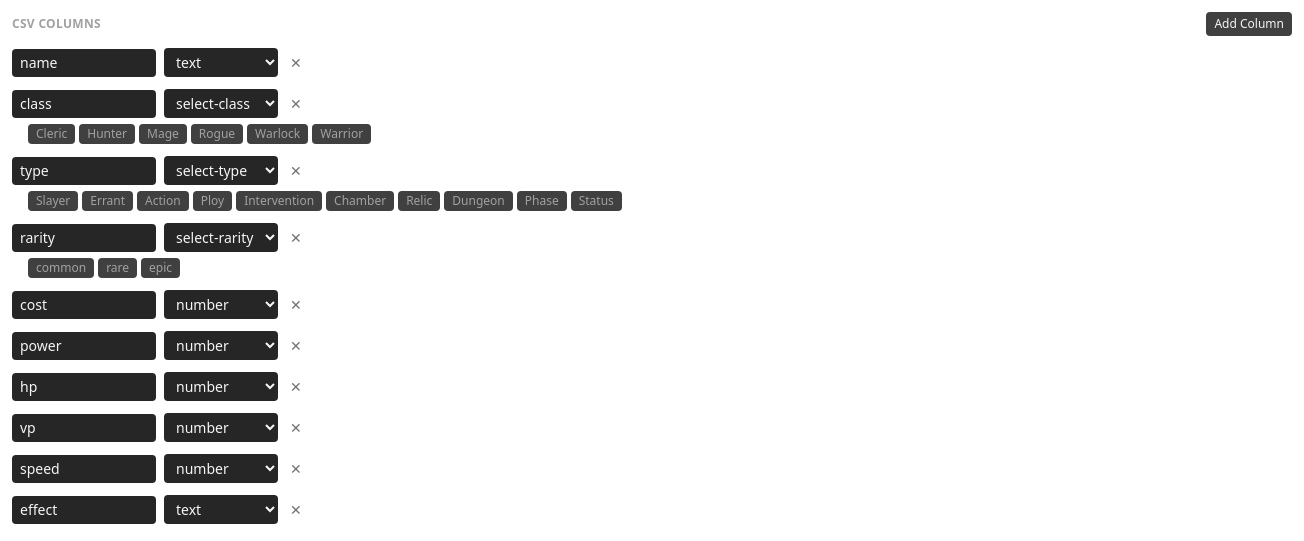
CsvColumnEditor › blurring with empty input reverts to previous name
Clear the field showing "name". click: [84, 62]
box: [12, 48, 156, 76]
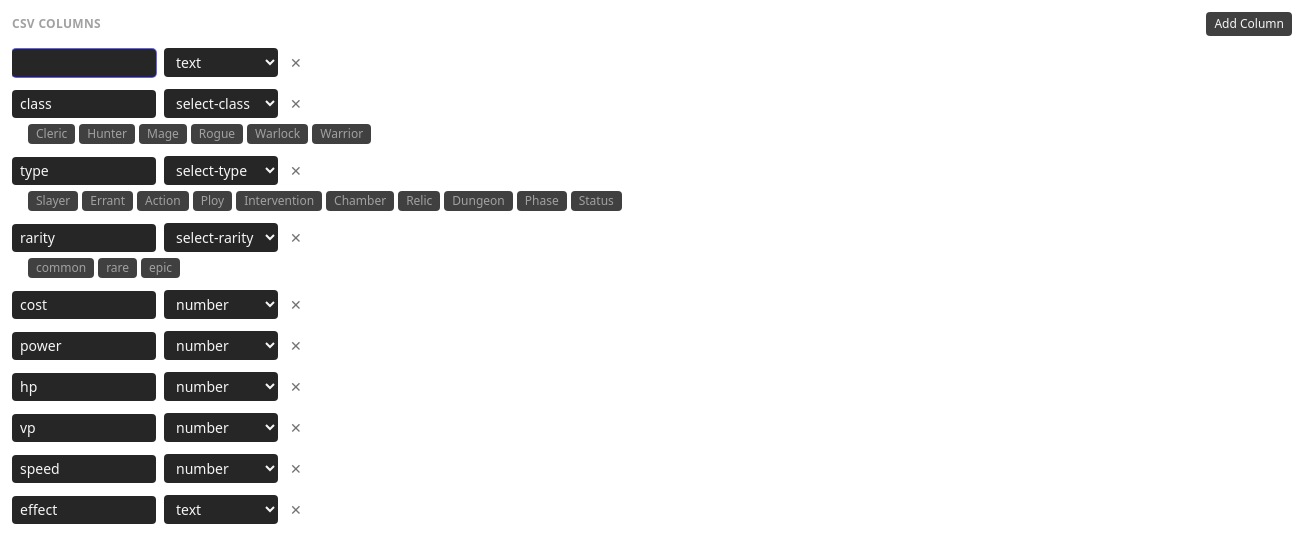
Press Tab
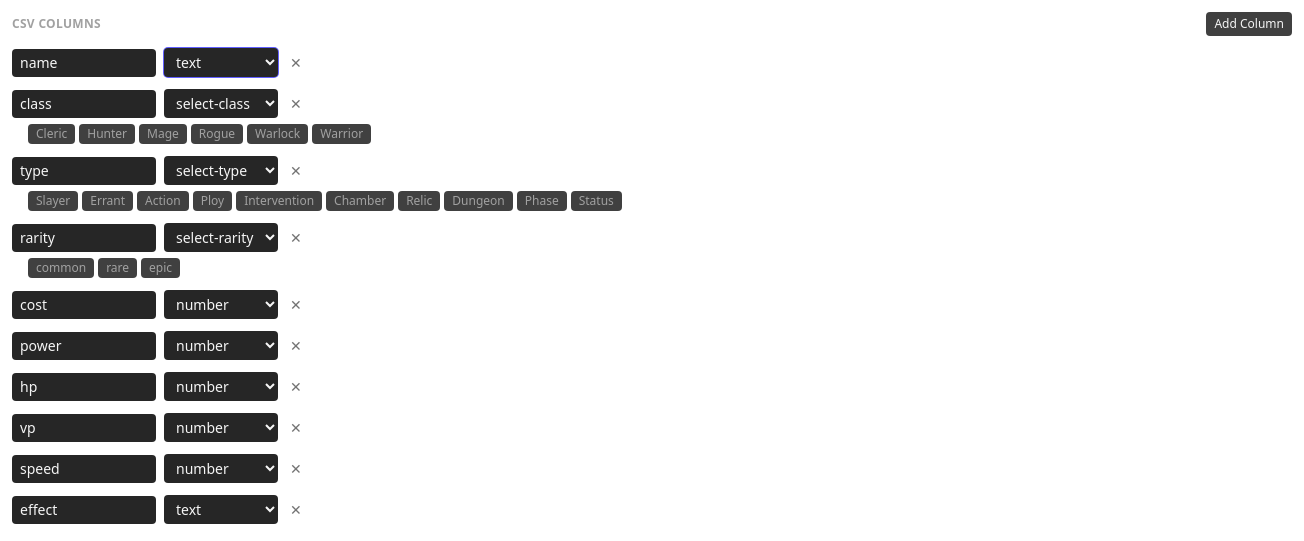
Expected: the field showing "name" holds "name", [12, 48, 156, 76]
